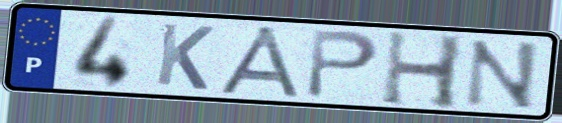4: (70, 14, 135, 91)
A: (213, 24, 308, 101)
H: (378, 28, 468, 111)
K: (152, 20, 217, 93)
N: (460, 37, 541, 112)
P: (302, 27, 382, 101)
